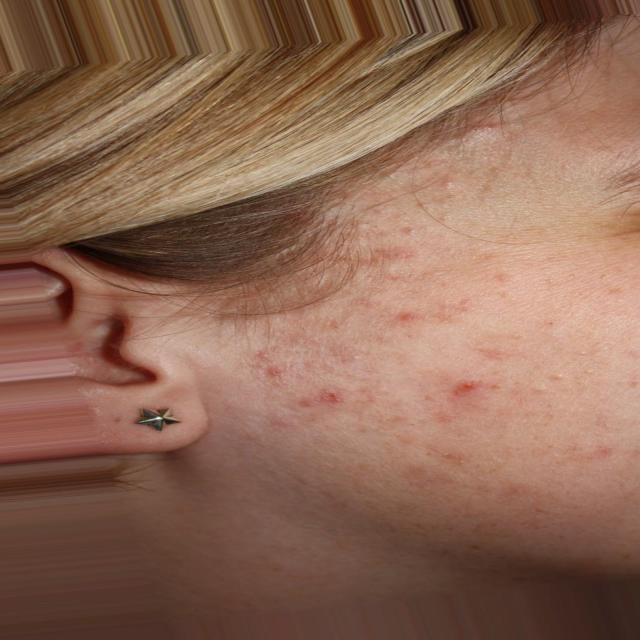acne: (328, 208, 430, 308), (238, 360, 356, 424), (432, 364, 516, 436), (460, 113, 524, 161)
